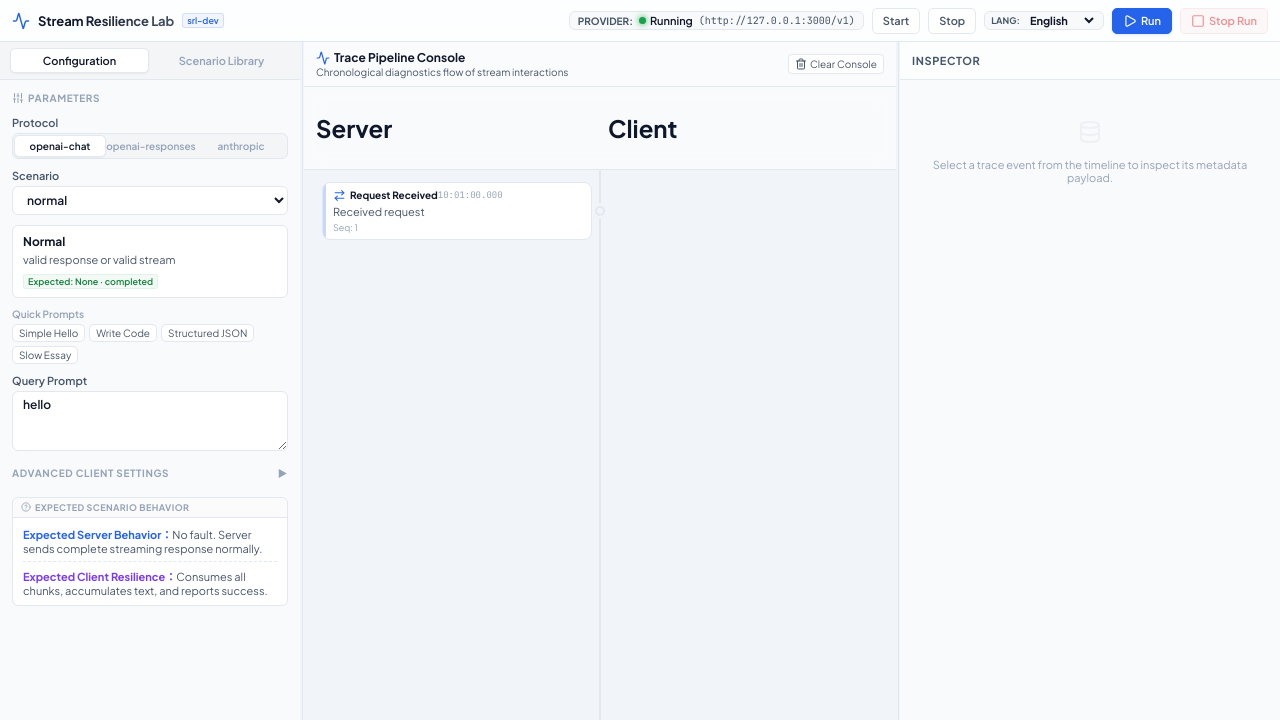
Scenario: desktop app › renders JSON data formatting with correct indentation when an event is selected
Expected: the text "running" is shown, [650,14,693,27]
What coordinates should you click on to do the following:
click the text "Received request"
I would click on:
 (379, 212)
Its box is [333,205,425,219].
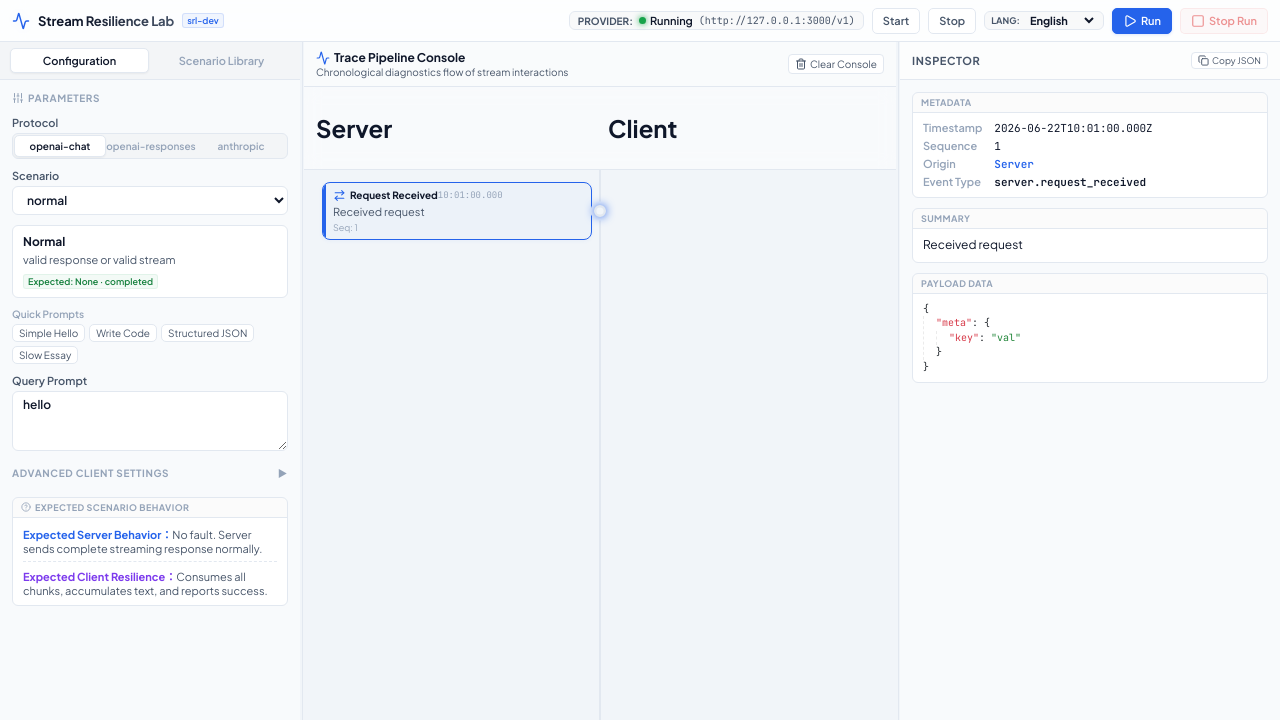
Now the element with class "json-viewer-container" is shown, box [923,302,1257,374]
Now the element with class "json-object" showing "{ \"meta\": { \"key\": \"val\" } }" is shown, box [923,302,1257,373]
Now the element with class "json-indent" showing "\"meta\": { \"key\": \"val\" }" is shown, box [923,316,1257,360]
